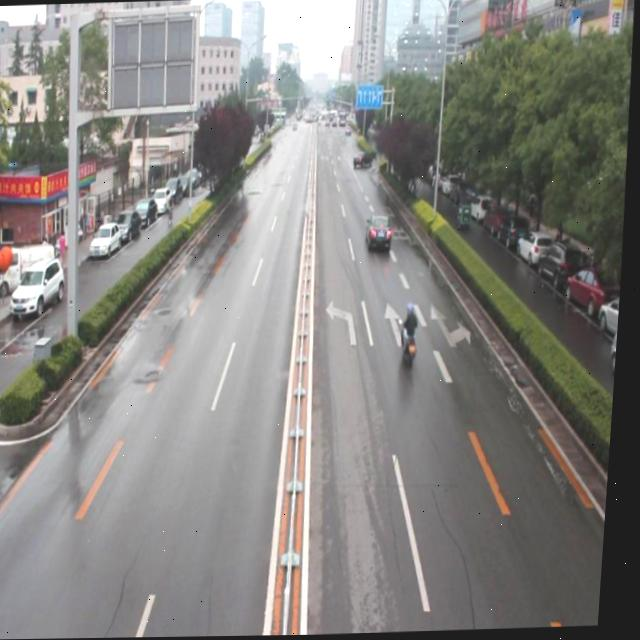car: (367, 213, 396, 252), (353, 153, 373, 169)
